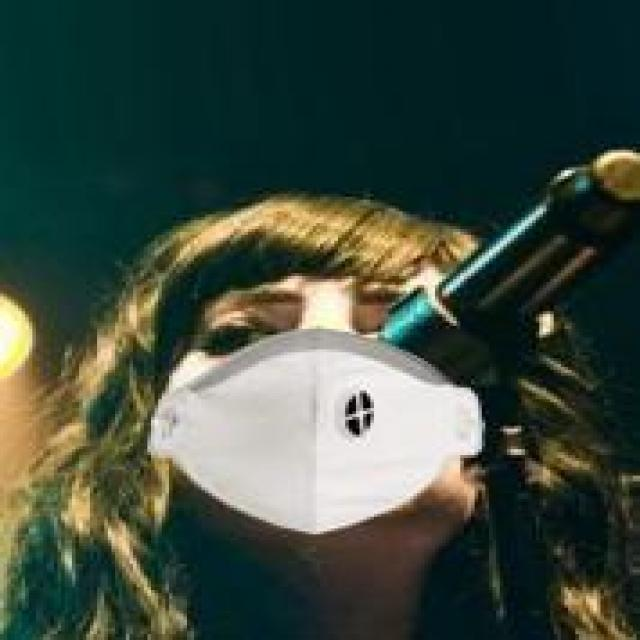mask: (140, 112, 540, 572)
